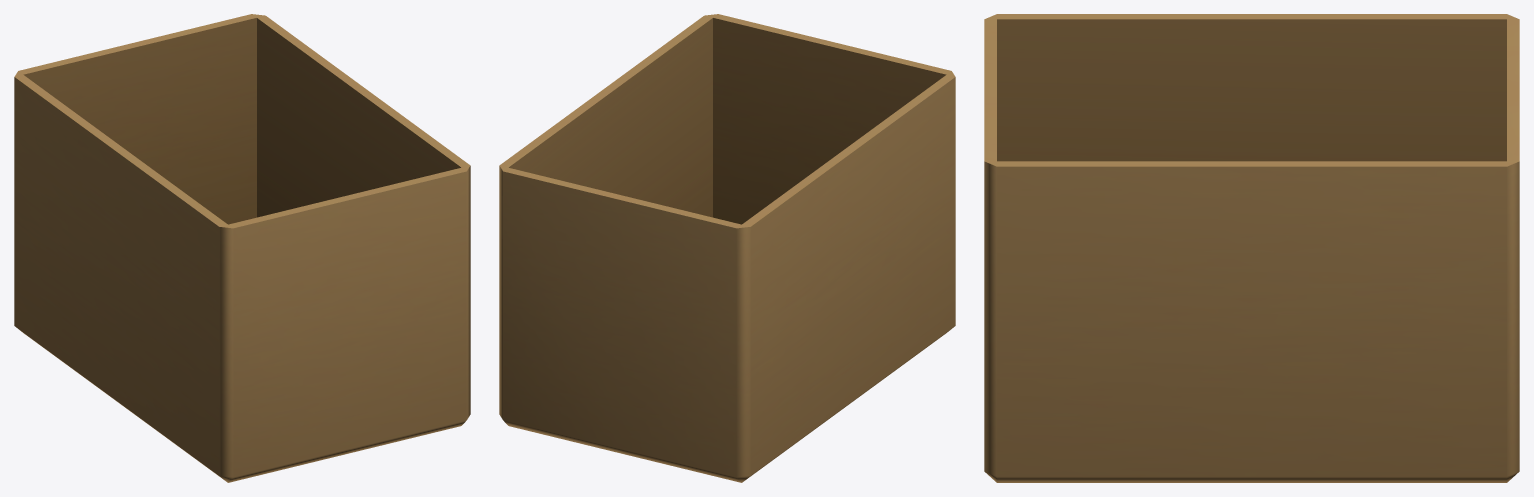
File: box_cardboard_large_rectangle_open.fbx
3 renders of one model, left to right at view 1: azimuth 30°, elevation 25°; view 2: azimuth 150°, elevation 25°; view 3: azimuth 270°, elevation 25°, orthographic. The views are drawn at different scales.
Parts seen in each view (by area): view 1: box_cardboard_large_rectangle_open; view 2: box_cardboard_large_rectangle_open; view 3: box_cardboard_large_rectangle_open.
Boxes of the visible parts, x1,y1,x2,y2 form: box_cardboard_large_rectangle_open: (14,14,470,482); box_cardboard_large_rectangle_open: (499,14,955,482); box_cardboard_large_rectangle_open: (984,14,1519,482).
Bounding box in the file's own units: 104 × 102 × 154.
